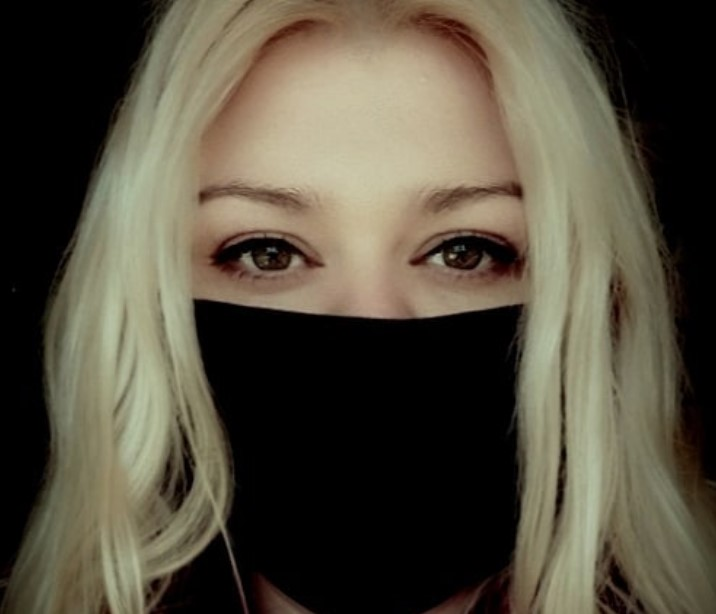face_with_mask: (150, 1, 639, 612)
